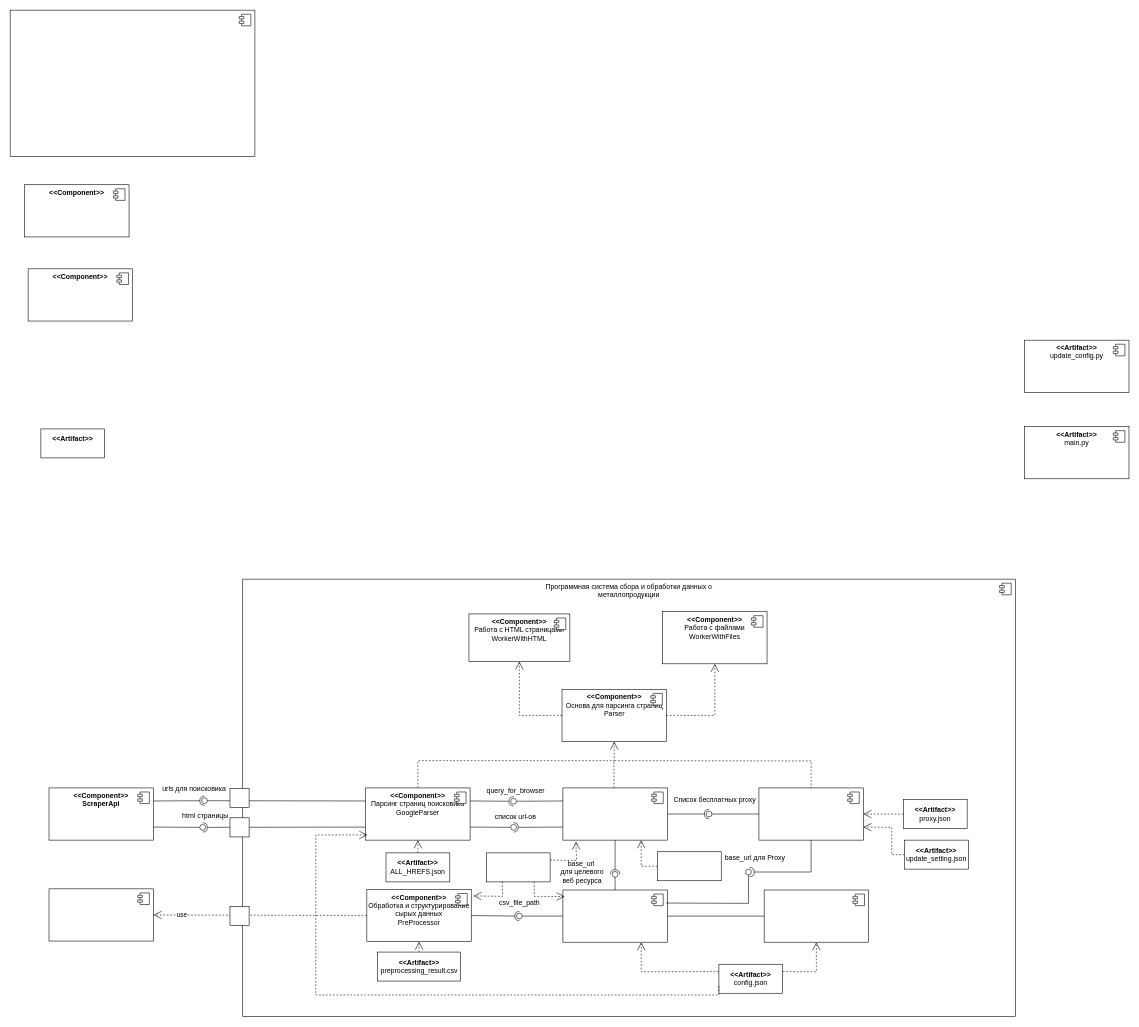
The diagram is 1139 pixels wide and 1027 high, and some of its shapes have lost their labels. The centre of each missing label's shape, as x and y in pixels:
<<Artifact>> result.csv: [518,867]
<<Artifact>> Промежуточные файлы .html: [689,866]
<<Component>> Внешние библиотеки для работы с данными: [100,914]
<<Component>> Обновление конфигурации update_config.py: [816,915]
<<Component>> Парсинг целевого веб ресурса Parser_23MET: [614,813]
<<Component>> Получение списка прокси серверов proxyParser: [810,813]
<<Component>> Точка входа main.py: [614,915]
<<Subsystem>>: [132,83]
